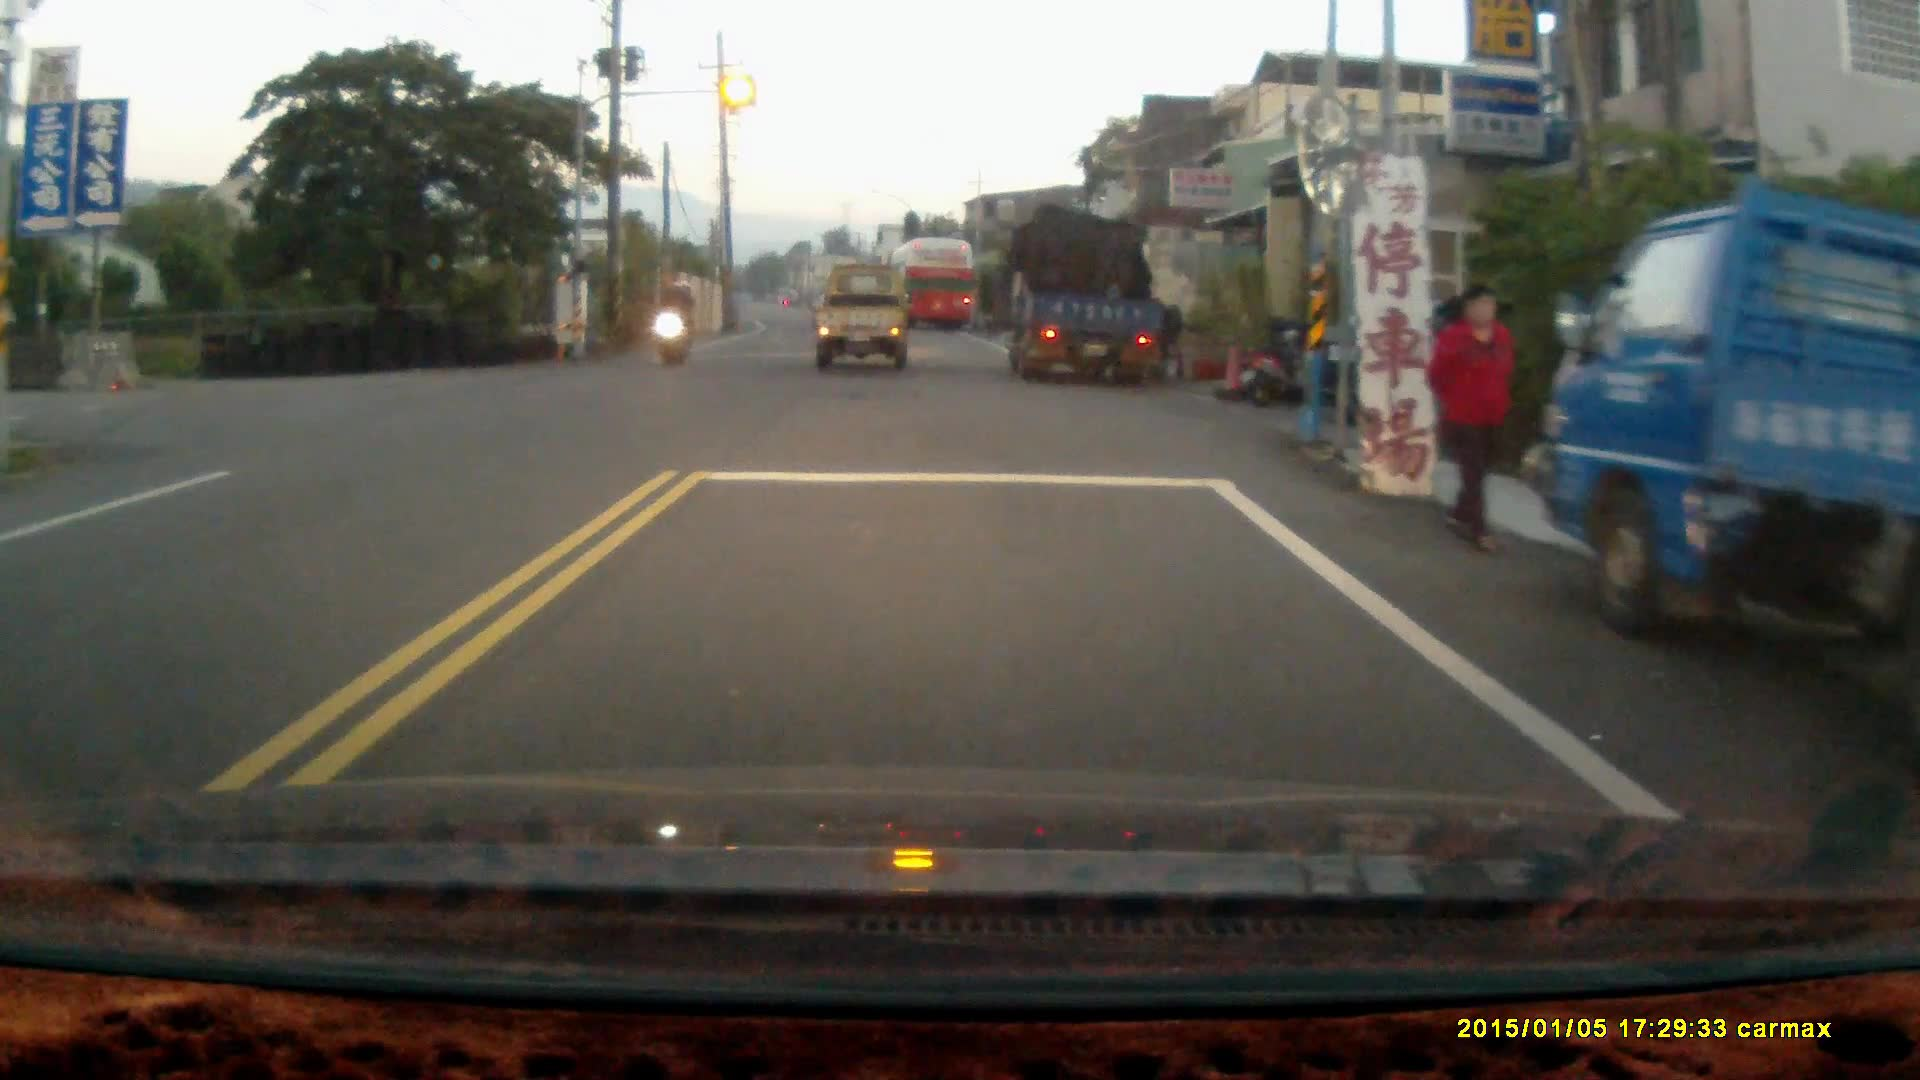pedestrian: (1426, 280, 1517, 557)
rider: (654, 280, 694, 367)
vehicle: (1535, 183, 1919, 696), (996, 203, 1171, 387), (809, 264, 906, 374), (885, 237, 974, 329)
